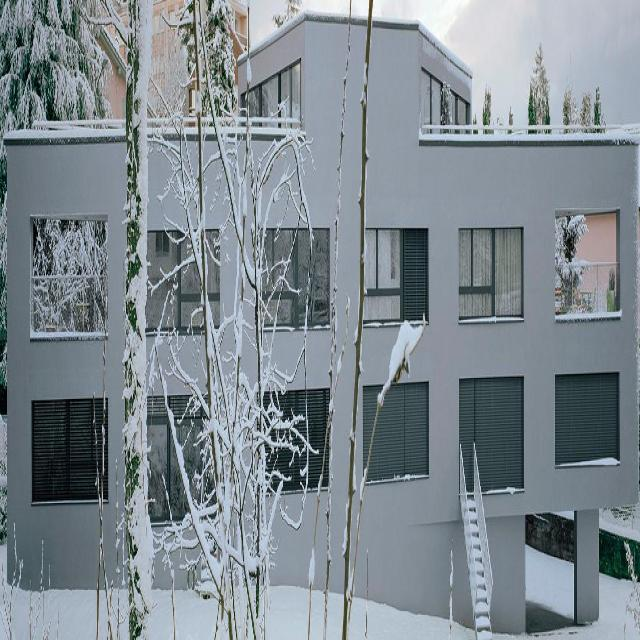Railing: (31, 275, 108, 332), (555, 270, 622, 312)
wall: (8, 12, 638, 635)
windows: (458, 377, 525, 493), (147, 230, 222, 326), (32, 400, 107, 494), (146, 401, 203, 524), (263, 391, 329, 491), (261, 227, 329, 320), (364, 383, 431, 474), (365, 229, 427, 320), (459, 228, 523, 316), (555, 378, 618, 460), (244, 56, 302, 128), (423, 65, 468, 134)
